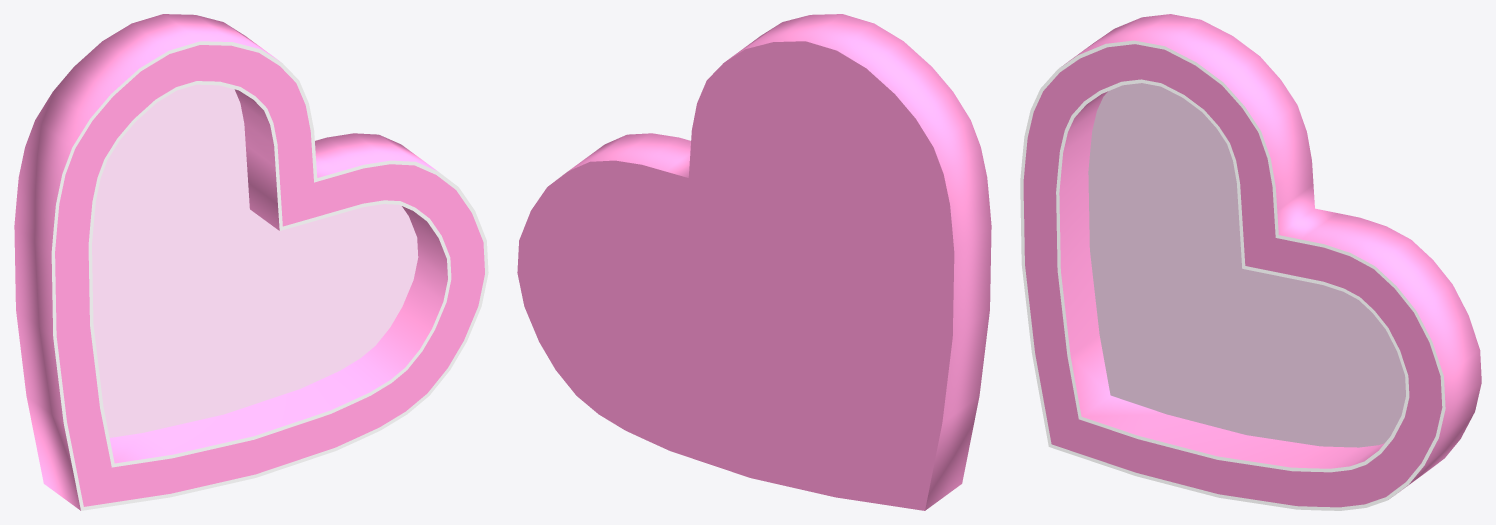
Rendered from BigHeart1.glb.
3 renders of one model, left to right at view 1: azimuth 30°, elevation 25°; view 2: azimuth 150°, elevation 25°; view 3: azimuth 330°, elevation 25°, orthographic. The views are drawn at different scales.
Parts seen in each view (by area): view 1: BigHeart1; view 2: BigHeart1; view 3: BigHeart1.
Part boxes in pixels (<box>): BigHeart1: <box>14,14,488,510</box>; BigHeart1: <box>517,14,991,510</box>; BigHeart1: <box>1020,14,1481,510</box>.
Size of what is drawn, in the model's own units: 3.37 by 3.31 by 0.4964.
2 materials, 2 textured.
